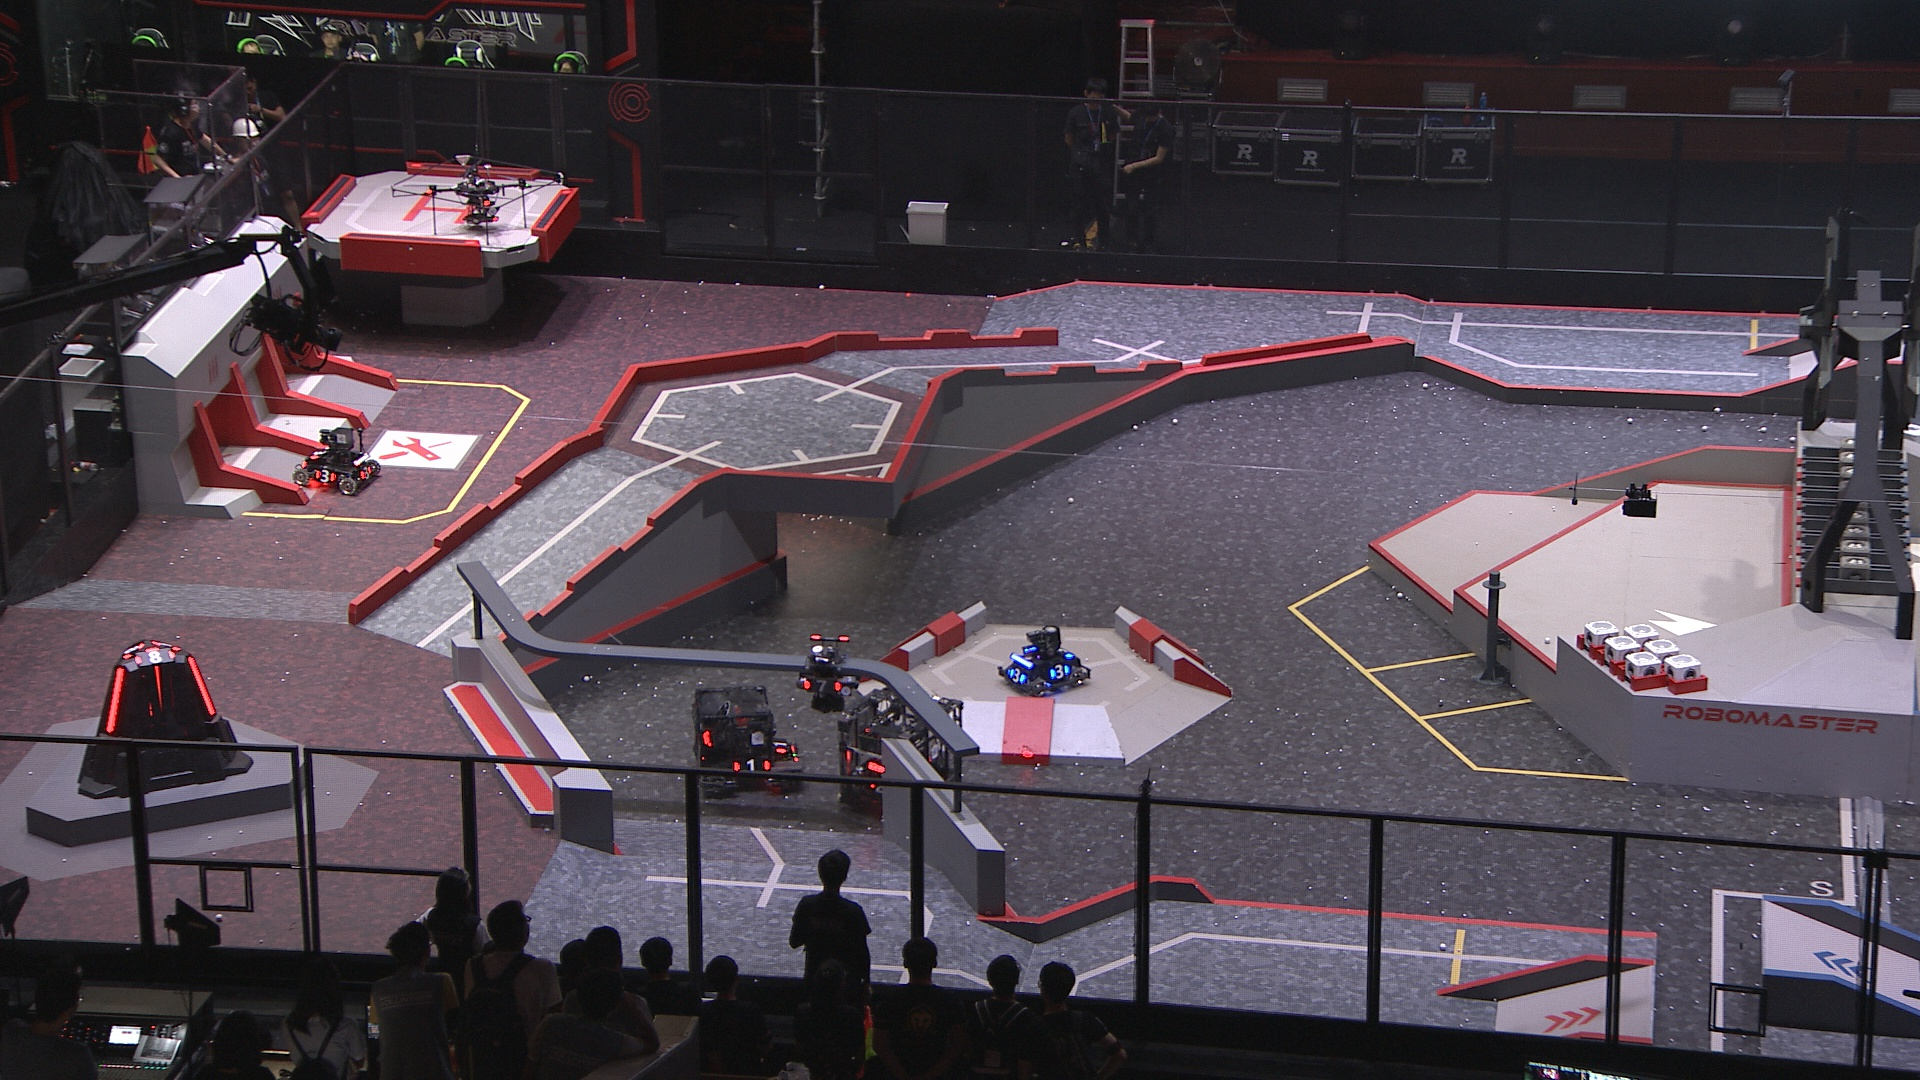armor: (187, 655, 216, 717), (102, 662, 124, 732), (803, 676, 841, 698), (135, 646, 175, 665), (150, 665, 164, 712), (733, 760, 771, 775), (119, 641, 150, 659), (865, 773, 891, 793), (310, 467, 335, 485), (1048, 661, 1069, 680), (773, 736, 789, 757), (1007, 669, 1027, 684), (1055, 646, 1073, 661), (310, 447, 324, 463), (359, 465, 375, 479)
base: (76, 636, 253, 799)
car: (836, 680, 977, 818), (684, 683, 803, 794), (996, 618, 1091, 698), (294, 425, 386, 500)
watcher: (796, 636, 864, 716)
